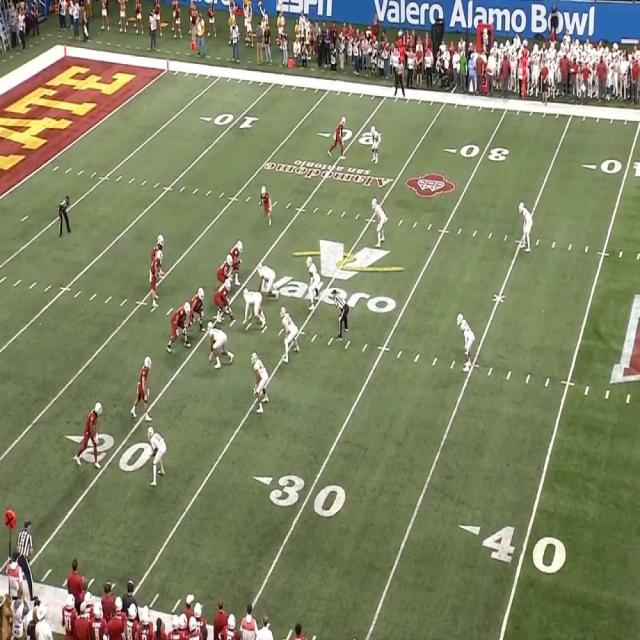center: (218, 278, 230, 318)
db: (148, 429, 164, 484), (459, 314, 473, 371), (520, 202, 532, 248), (373, 200, 384, 246), (371, 125, 380, 164)
lb: (282, 306, 296, 360), (253, 355, 267, 406), (307, 256, 318, 308)
qb: (150, 251, 162, 307)
skill: (137, 359, 152, 419), (90, 401, 102, 468), (260, 182, 272, 224), (336, 112, 346, 160), (157, 236, 164, 253)
